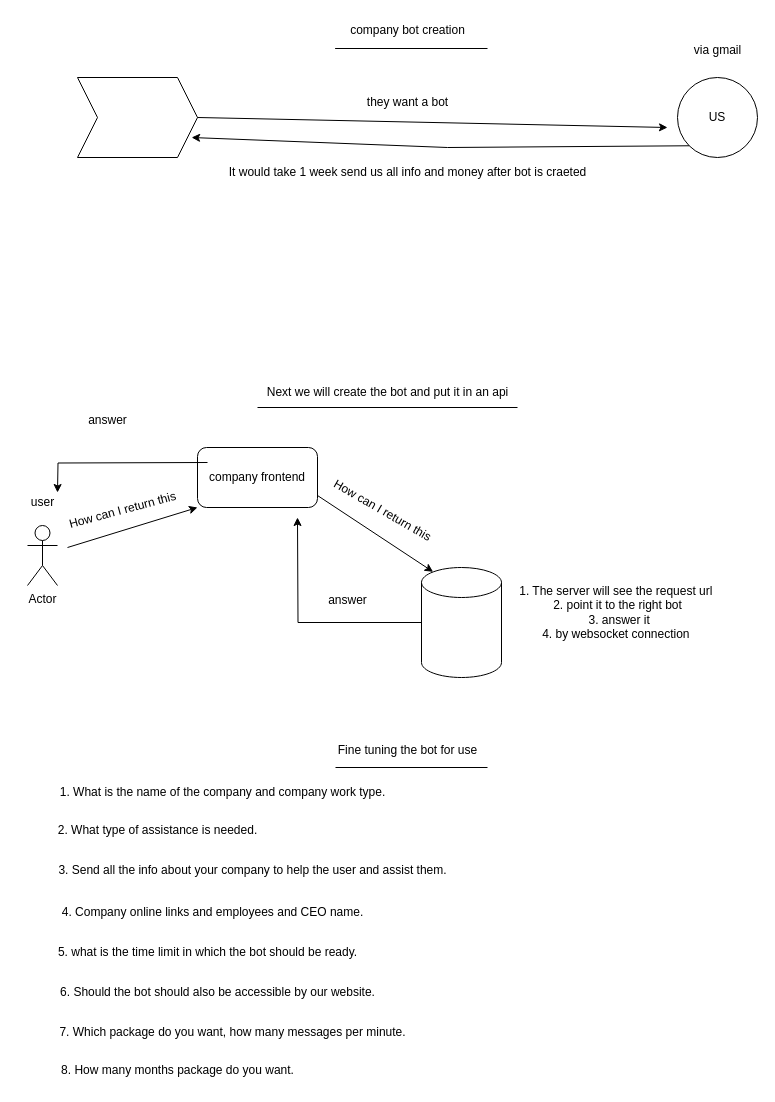
Some shapes in this 775 by 1102 pixel diagram are drawn without their labels. Each missing label, with the centre of its shape:
"company" goes at (x=137, y=117).
"server consisting of all bots api" goes at (x=461, y=622).
